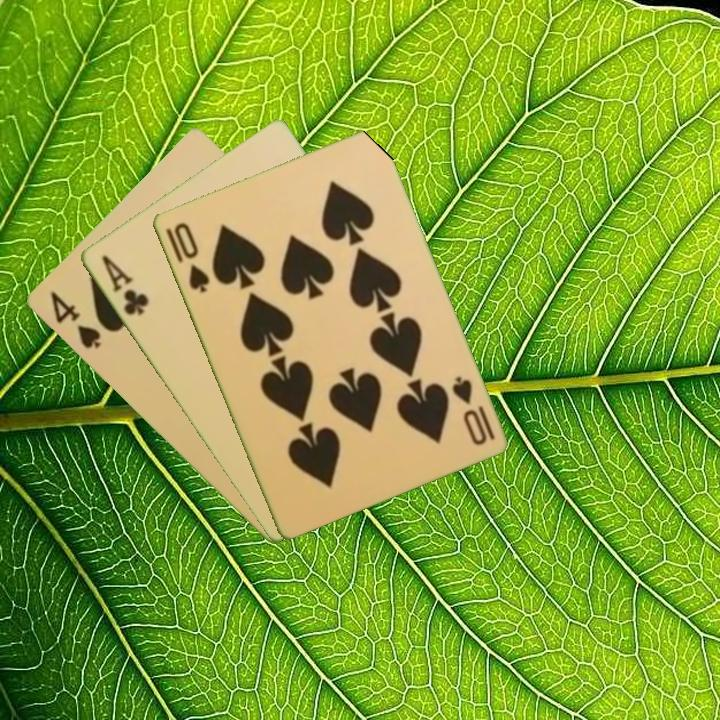10s: (447, 372, 498, 448), (169, 218, 212, 296)
4s: (46, 287, 104, 352)
Ac: (97, 251, 152, 319)
